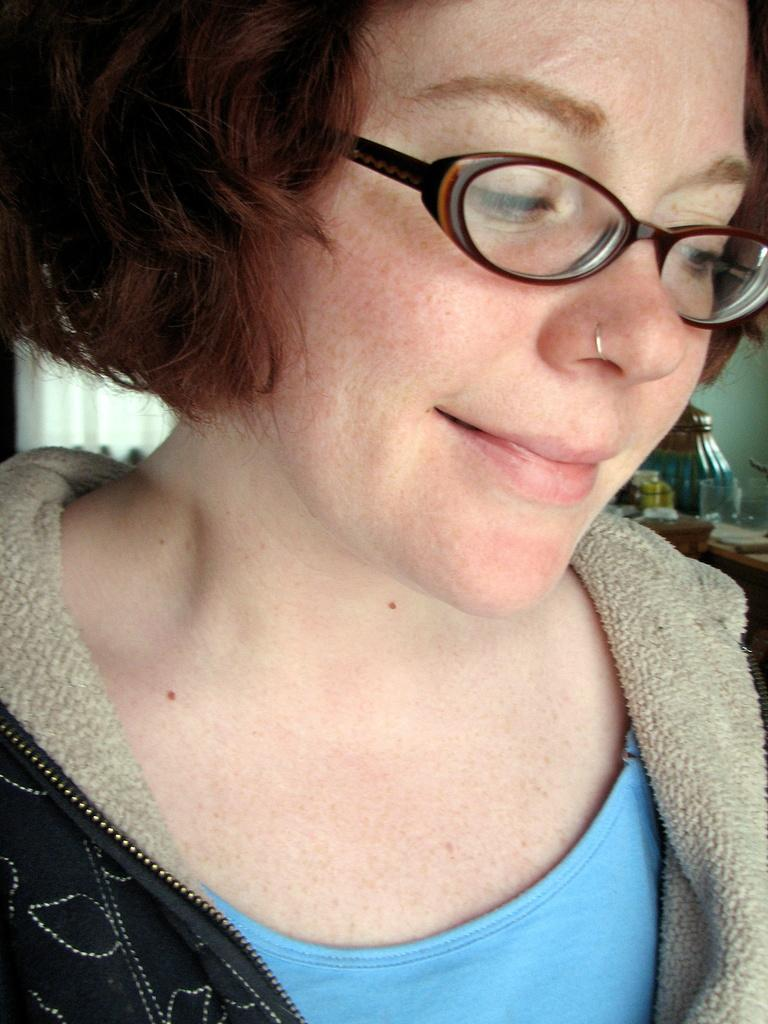Sem Máscara: (261, 0, 757, 611)
